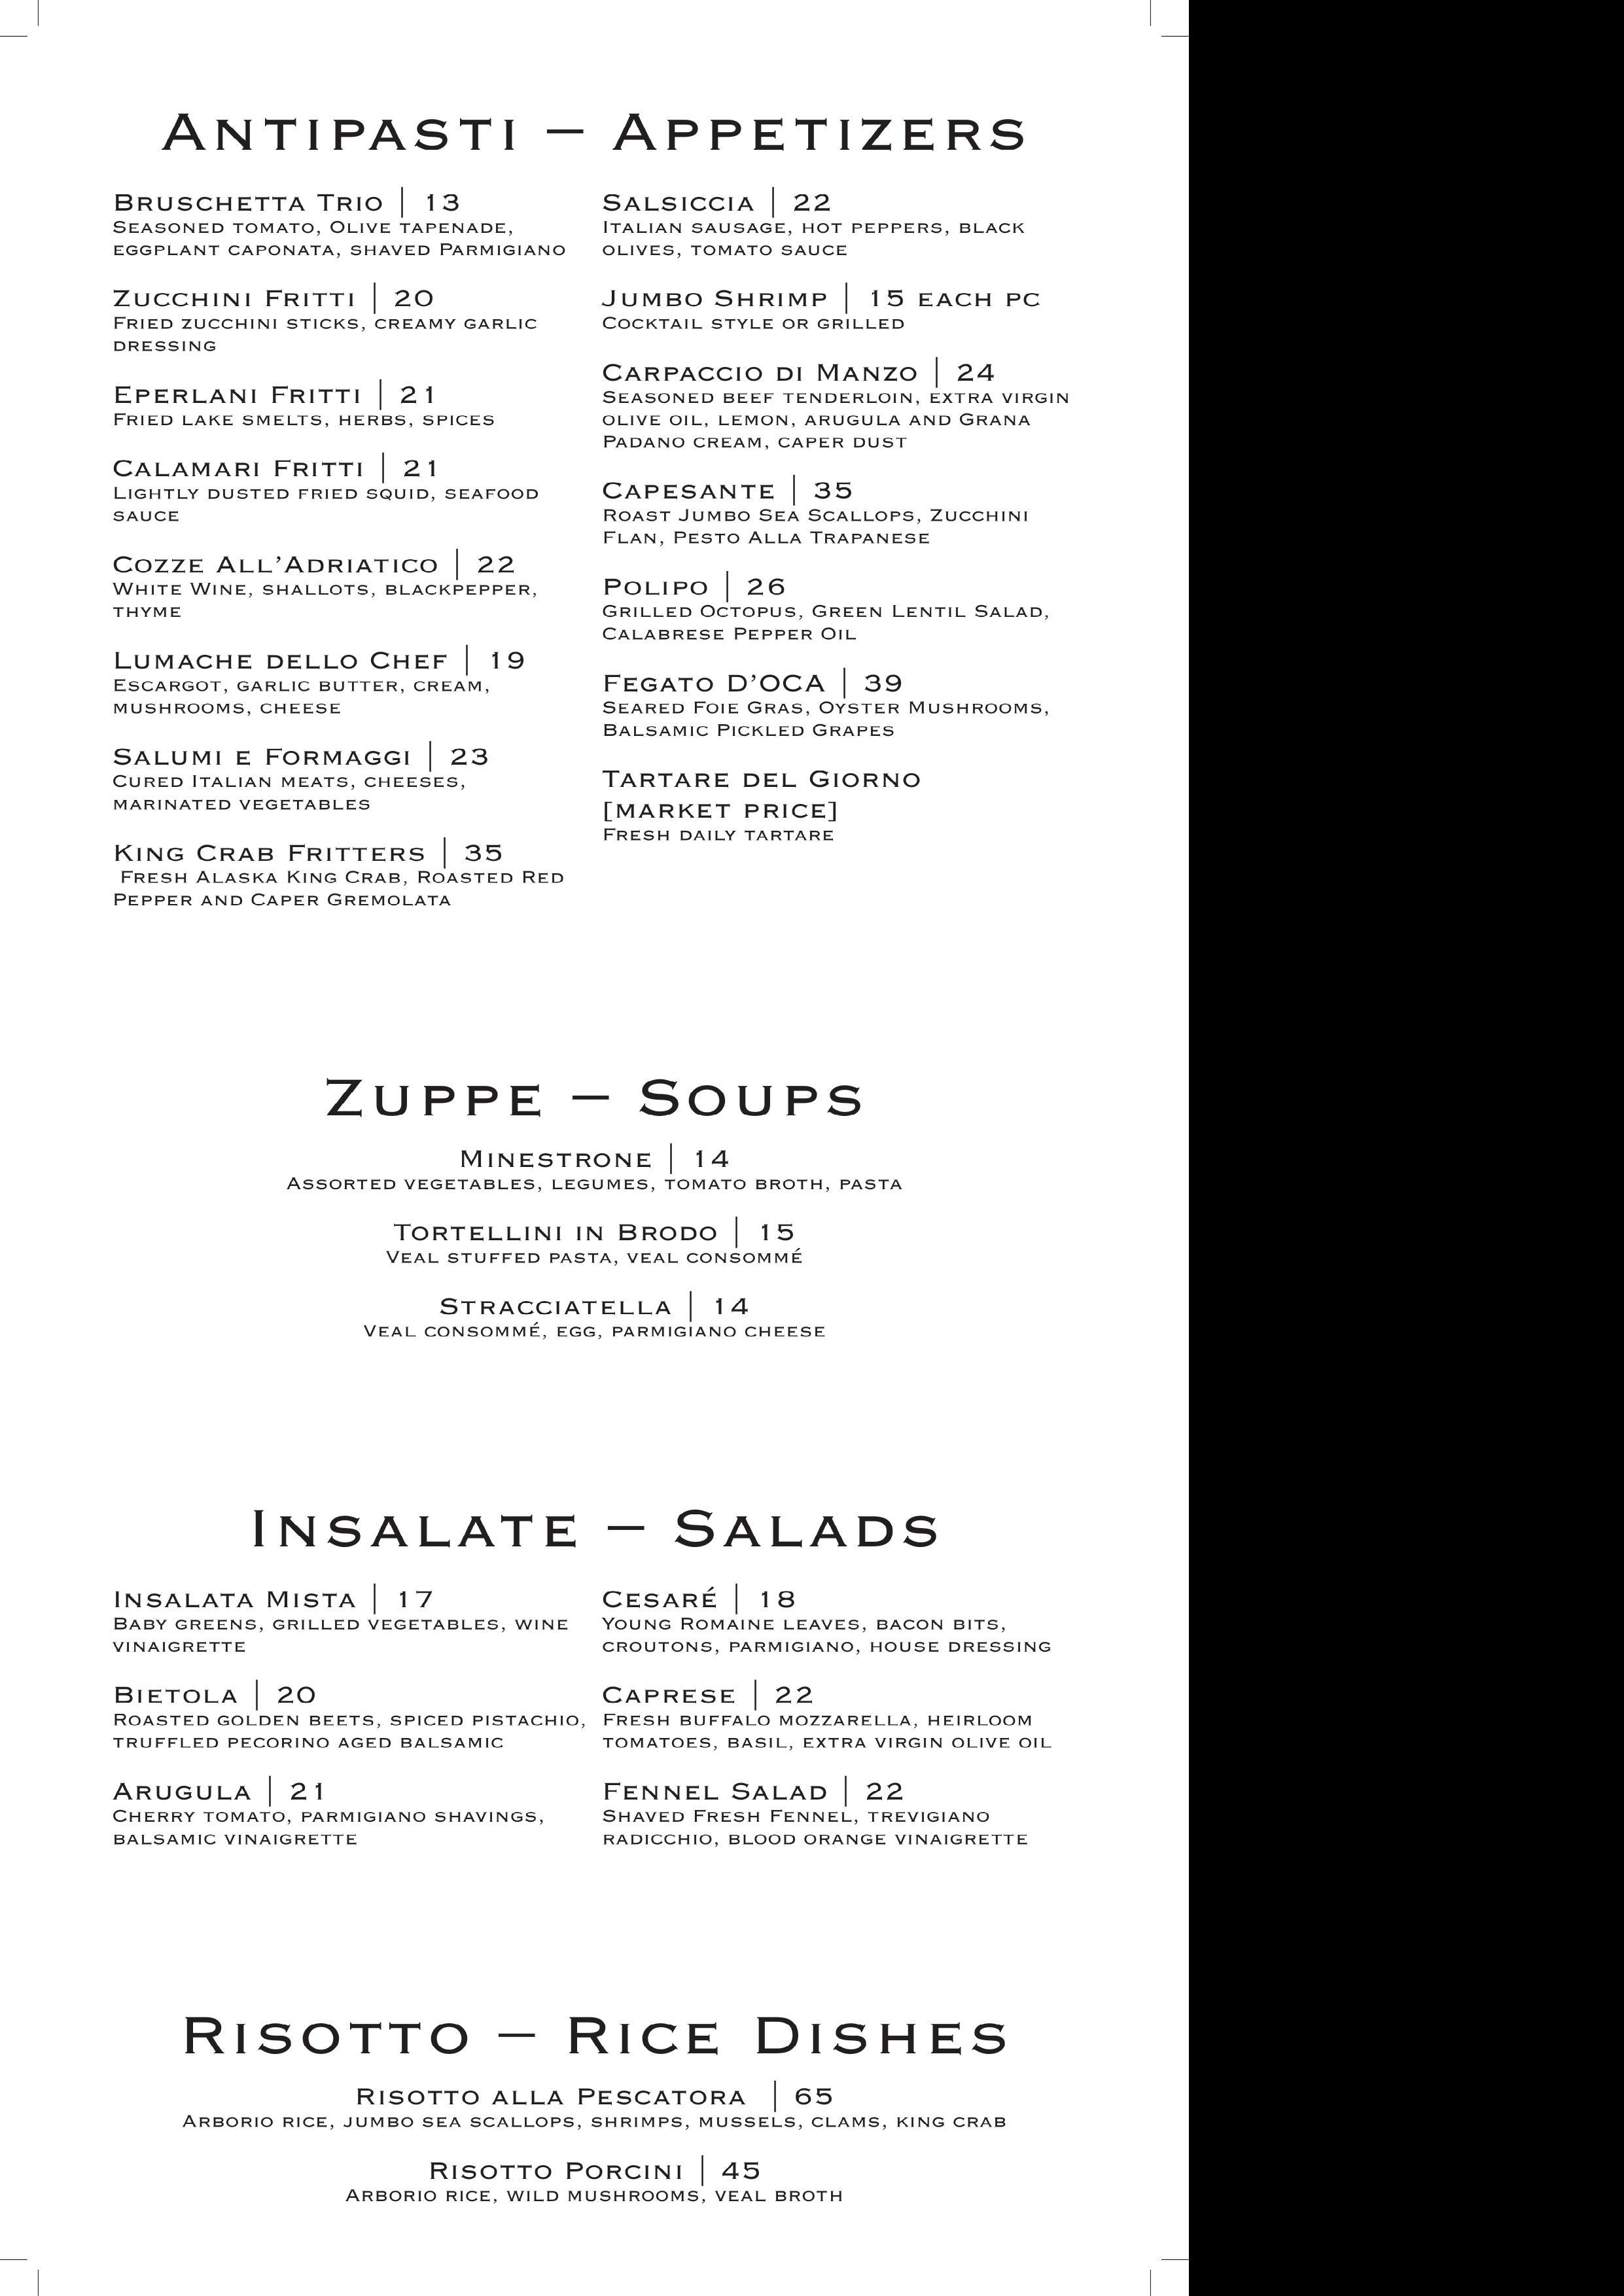description: (603, 388, 1072, 450), (112, 866, 564, 912), (183, 2110, 1007, 2134), (112, 1711, 587, 1753), (603, 1711, 1060, 1753), (603, 504, 1032, 548), (114, 313, 538, 357), (112, 220, 568, 260), (601, 1616, 1055, 1657), (112, 580, 538, 622), (112, 1616, 573, 1655), (114, 1808, 545, 1848), (603, 699, 1053, 738), (603, 603, 1053, 641), (112, 485, 541, 523), (114, 676, 492, 718), (603, 220, 1032, 256), (603, 1809, 1028, 1846), (112, 773, 468, 812), (286, 1175, 903, 1195), (344, 2187, 845, 2208), (362, 1321, 831, 1342), (385, 1247, 807, 1268), (111, 409, 501, 430), (601, 314, 910, 334), (603, 824, 840, 845)
item: (170, 2082, 1018, 2136), (601, 358, 1076, 455), (281, 1133, 912, 1203), (111, 1773, 554, 1860), (111, 836, 569, 921), (111, 1679, 594, 1758), (601, 666, 1074, 745), (109, 184, 571, 265), (605, 1678, 1063, 1758), (111, 543, 559, 625), (598, 471, 1033, 552), (601, 1773, 1033, 1853), (339, 2147, 849, 2215), (599, 186, 1040, 265), (599, 571, 1058, 646), (107, 1583, 576, 1657), (111, 643, 529, 726), (598, 1583, 1058, 1657), (111, 281, 543, 358), (105, 738, 506, 819), (111, 453, 548, 527), (601, 764, 919, 854), (599, 283, 1058, 341), (360, 1293, 835, 1346), (109, 376, 504, 437), (385, 1214, 807, 1270)
price: (719, 2154, 761, 2182), (866, 1778, 905, 1804), (712, 1295, 752, 1319), (956, 362, 997, 386), (397, 381, 436, 406), (816, 478, 854, 502), (863, 671, 903, 694), (758, 1586, 798, 1609), (395, 285, 432, 309), (450, 745, 489, 768), (694, 1149, 733, 1172), (278, 1685, 316, 1708), (794, 193, 833, 216), (777, 1685, 814, 1708), (478, 553, 515, 576), (870, 286, 909, 307), (399, 1588, 434, 1611), (427, 191, 462, 214), (747, 578, 787, 597), (796, 2087, 835, 2106), (490, 650, 526, 671), (292, 1780, 322, 1804), (404, 457, 436, 480), (464, 845, 504, 863), (763, 1223, 794, 1244)
tittle: (355, 2085, 747, 2108), (603, 768, 919, 796), (112, 552, 438, 576), (395, 1221, 719, 1245), (114, 650, 450, 673), (603, 362, 919, 385), (112, 745, 413, 768), (112, 840, 425, 861), (111, 1588, 362, 1613), (114, 383, 360, 408), (112, 286, 357, 311), (429, 2159, 687, 2182), (112, 458, 371, 481), (605, 1780, 826, 1806), (114, 191, 381, 213), (438, 1296, 673, 1319), (603, 671, 824, 694), (453, 1145, 654, 1170), (601, 288, 830, 309), (603, 190, 761, 216), (601, 480, 775, 502), (112, 1780, 253, 1802), (603, 1686, 738, 1708), (603, 1586, 728, 1609), (114, 1685, 239, 1706), (603, 578, 710, 599)
